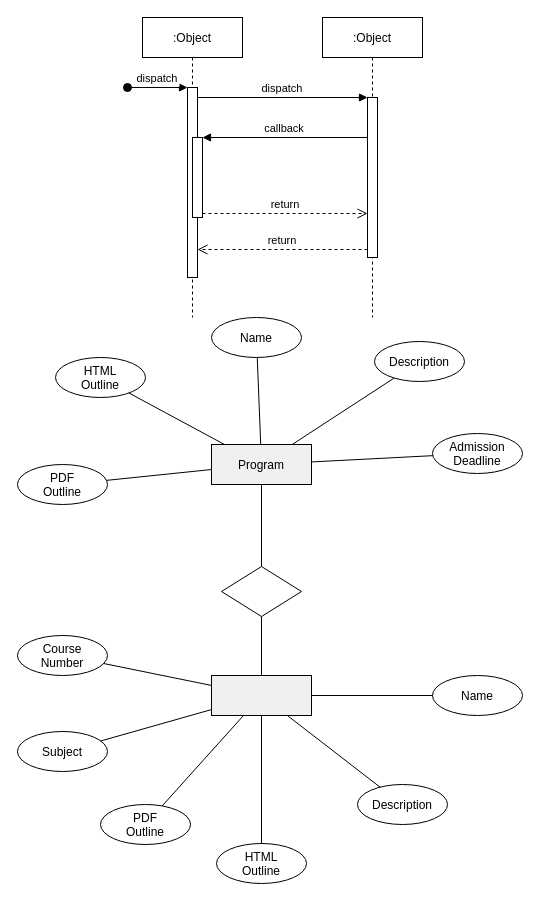
This 540x901 diagram has some shape labels left out. The centre of each missing label's shape, as x and y in pixels:
Course: (261,695)
courses: (261,591)
